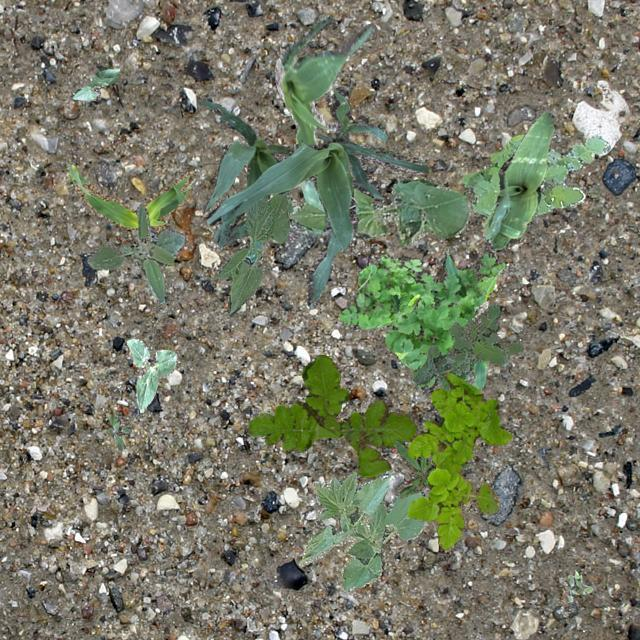crop: (205, 85, 428, 308), (274, 14, 386, 210), (298, 470, 426, 590), (198, 98, 292, 244), (288, 178, 470, 245), (64, 162, 194, 232), (216, 190, 288, 316), (488, 110, 552, 250), (126, 338, 178, 412), (68, 66, 120, 100)
weed: (247, 354, 418, 476), (406, 372, 512, 548), (384, 249, 504, 392), (462, 127, 610, 240), (86, 204, 186, 302), (411, 302, 522, 388), (338, 254, 433, 328), (392, 439, 468, 496), (106, 412, 130, 450), (564, 568, 592, 600)
